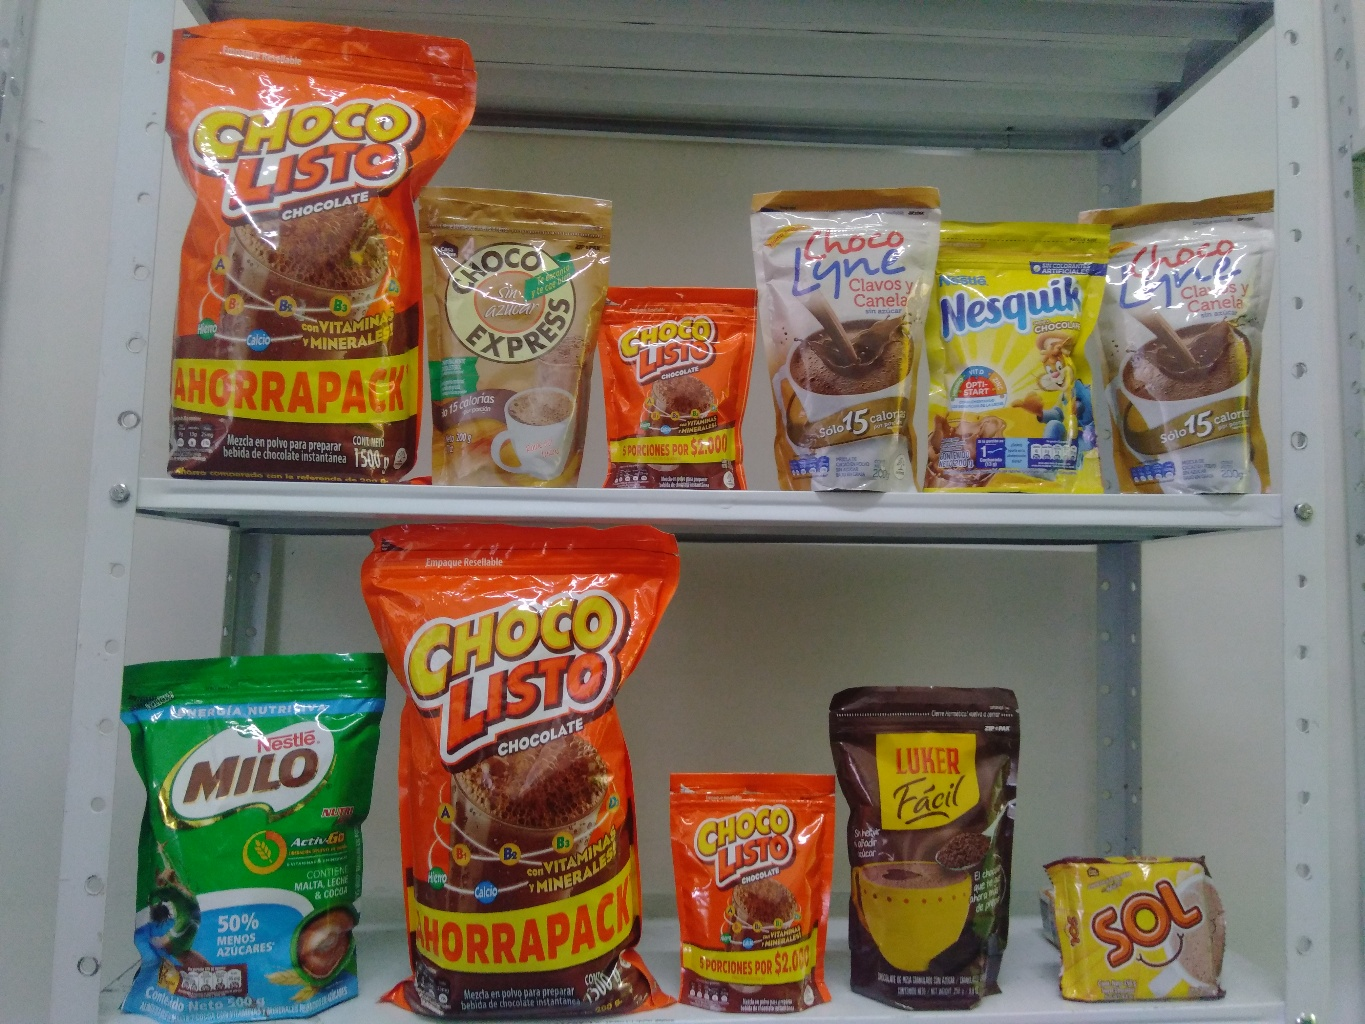COL0170103DYP1,500: (147, 18, 468, 475)
COL0170205DYP50000: (93, 645, 388, 1006)
COL0170303DYP20000: (914, 214, 1114, 499)
